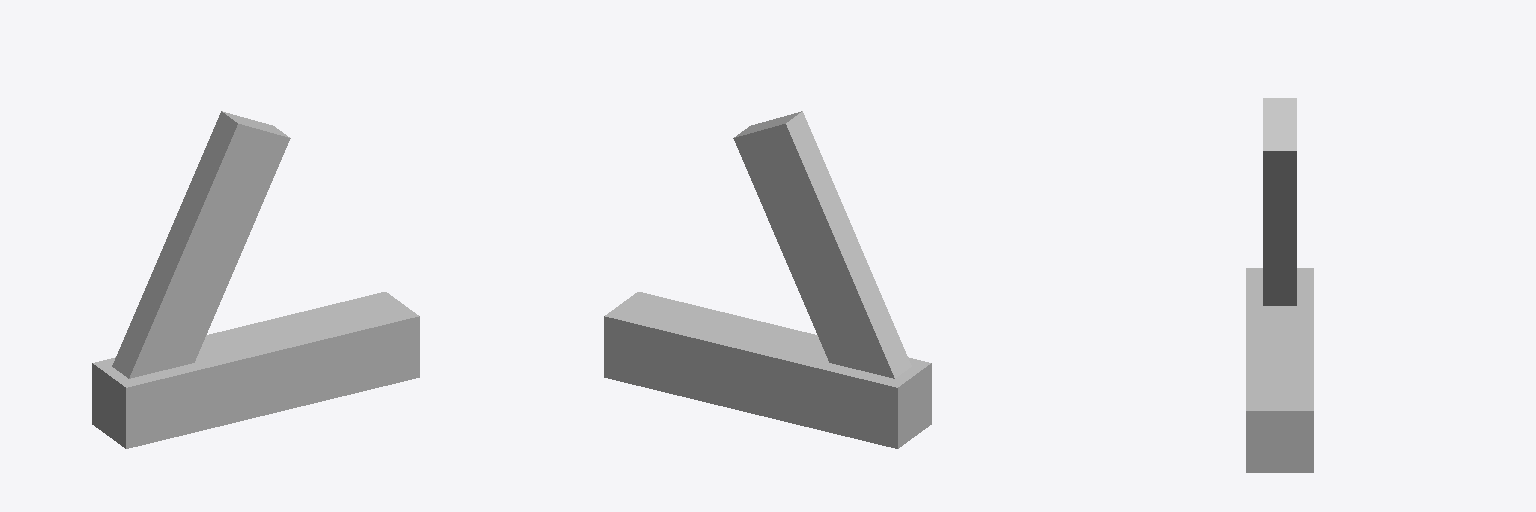
Rendered from beam_4.obj.
3 views of the same model, side by side, from view 1: azimuth 30°, elevation 25°; view 2: azimuth 150°, elevation 25°; view 3: azimuth 270°, elevation 25° (orthographic).
Parts seen in each view (by area): view 1: beam_4_Cube.077; view 2: beam_4_Cube.077; view 3: beam_4_Cube.077.
Boxes of the visible parts, x1=… form: beam_4_Cube.077: x1=92, y1=111, x2=419, y2=448; beam_4_Cube.077: x1=604, y1=111, x2=931, y2=448; beam_4_Cube.077: x1=1246, y1=98, x2=1313, y2=472.
Size of the model in its own units: 1.25 by 1.18 by 0.25.